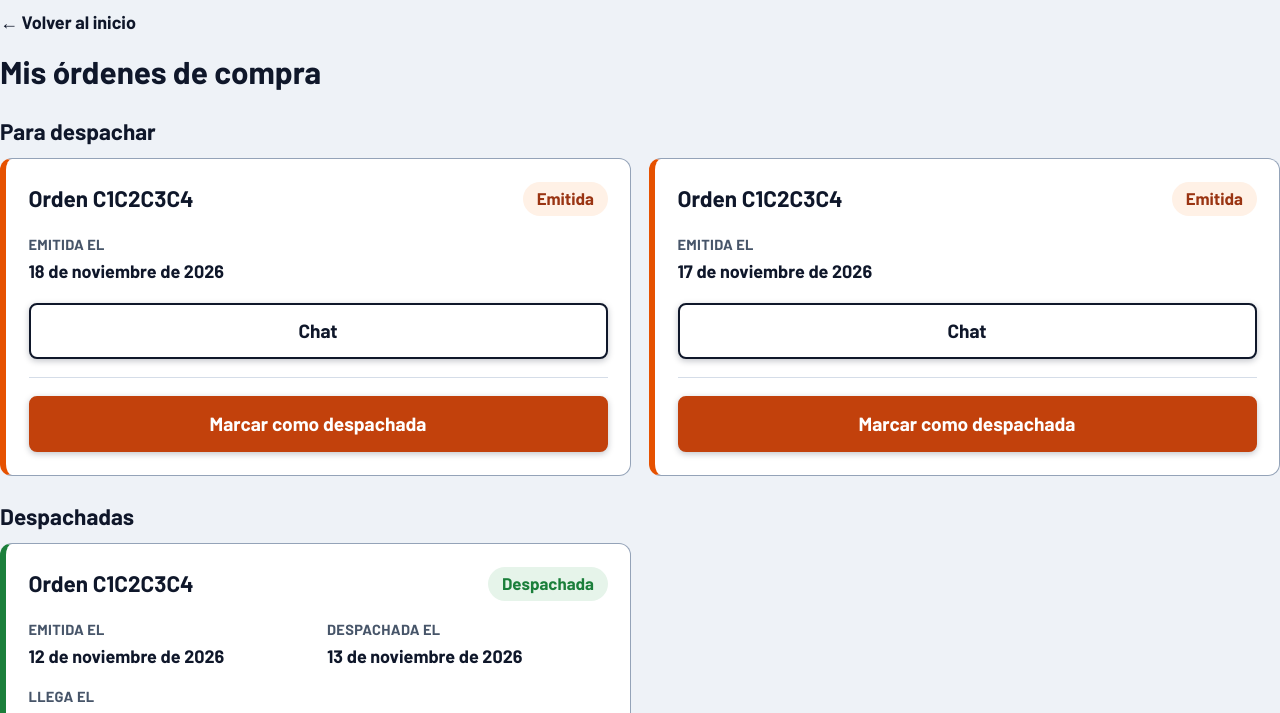
Test: MisOrdenesProveedorPage › despacha sin fecha ni observación: no manda cuerpo
Click the button "Marcar como despachada" below "18 de noviembre de 2026" at (318, 424), box [28,396,608,452]
(page scrolled)
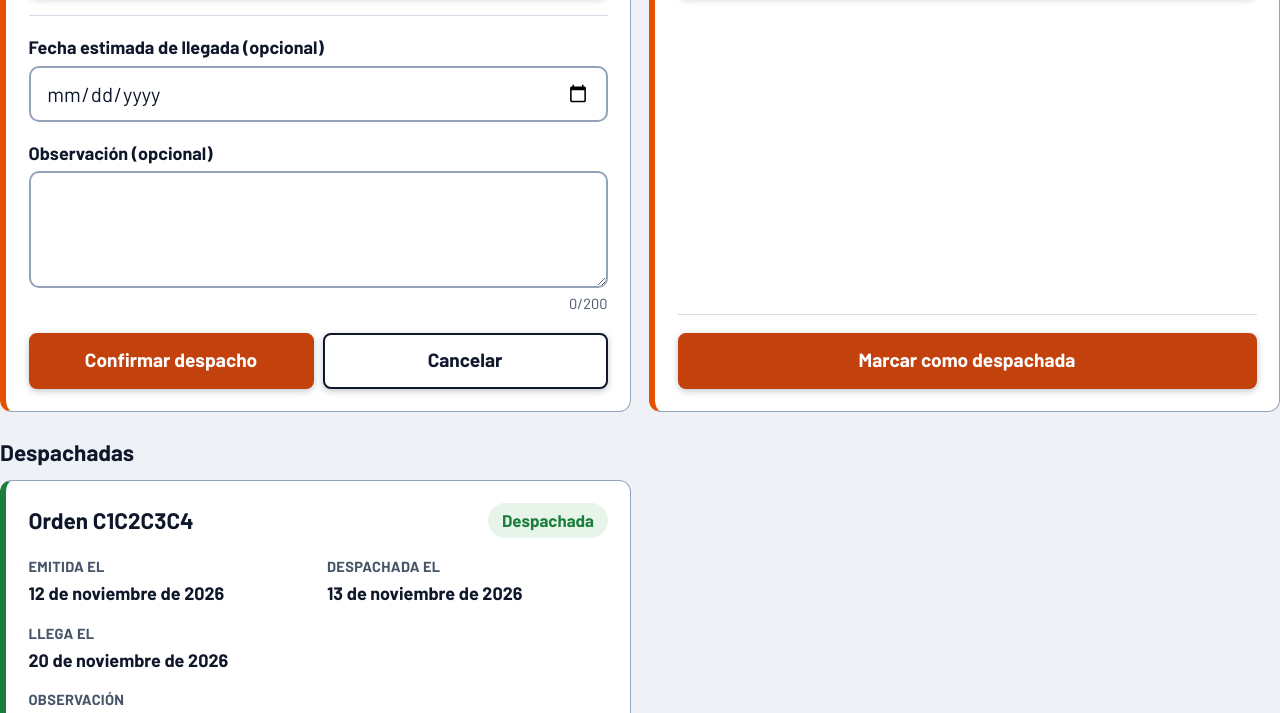
Click the button "Confirmar despacho" at (171, 361), box [28,333,314,389]
(page scrolled)
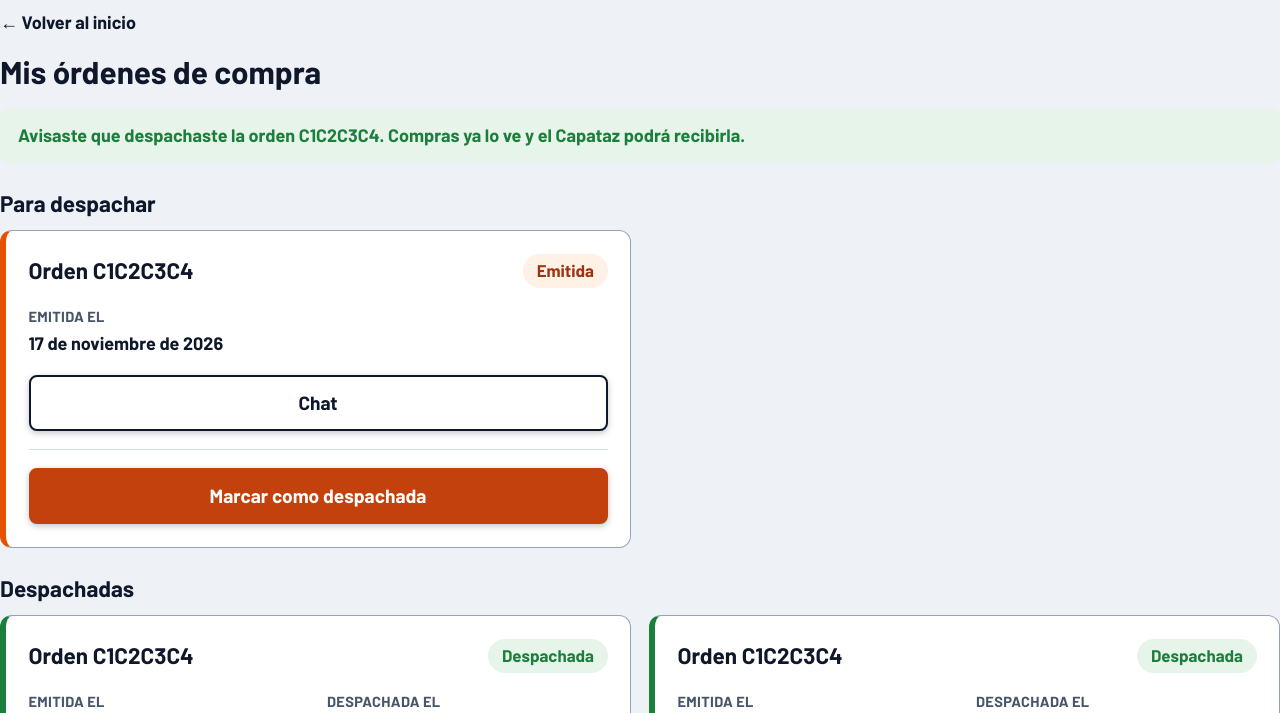
Expected: the message shows "Avisaste que despachaste la orden", [18,124,745,146]
